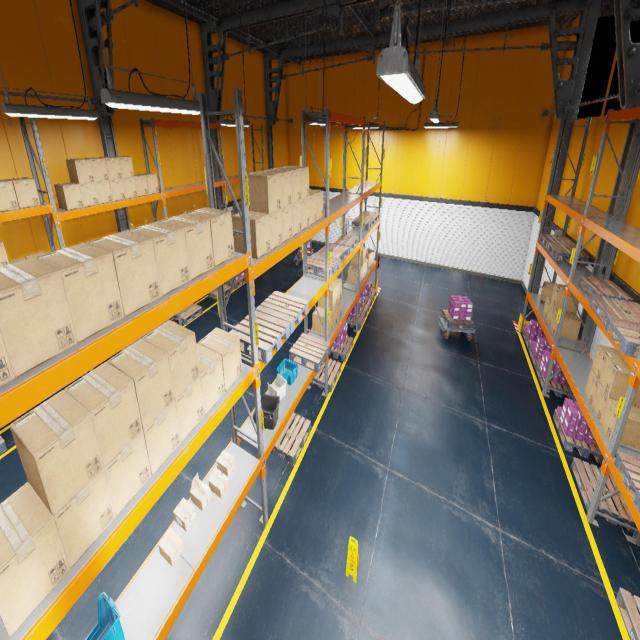box: (9, 390, 104, 516), (0, 482, 70, 637), (0, 257, 77, 377), (34, 243, 124, 342), (64, 362, 143, 468), (85, 231, 161, 317), (53, 468, 116, 568), (108, 338, 174, 429), (126, 222, 190, 296), (142, 320, 200, 399), (104, 431, 151, 516), (158, 214, 214, 280), (184, 207, 234, 266), (198, 327, 242, 391), (143, 400, 181, 474), (599, 356, 640, 407), (196, 343, 225, 414), (600, 398, 640, 449), (174, 376, 204, 442), (232, 210, 270, 258), (247, 171, 280, 214), (591, 344, 624, 382), (259, 169, 291, 208), (270, 167, 300, 204), (5, 177, 40, 208), (158, 528, 184, 566), (282, 165, 309, 200), (550, 310, 581, 340), (550, 283, 579, 313), (0, 330, 15, 386), (54, 182, 84, 210), (190, 472, 212, 510), (173, 497, 196, 531), (546, 302, 576, 327), (66, 158, 94, 184), (208, 468, 229, 498), (0, 180, 19, 212), (592, 383, 607, 423), (312, 306, 332, 336), (98, 156, 122, 180), (84, 158, 109, 181), (269, 209, 282, 250), (318, 283, 337, 311), (584, 370, 598, 407), (216, 450, 235, 476), (112, 156, 134, 178), (80, 182, 98, 207), (310, 189, 324, 220), (95, 180, 113, 204), (281, 205, 292, 242), (140, 173, 159, 194), (109, 178, 126, 201), (122, 177, 138, 199), (539, 281, 554, 304), (292, 200, 301, 236), (134, 174, 148, 196), (348, 264, 362, 285), (351, 247, 366, 266), (301, 197, 309, 230), (332, 278, 342, 303), (352, 262, 365, 281), (0, 240, 9, 266), (365, 248, 375, 268), (543, 296, 551, 320), (310, 193, 316, 225), (24, 252, 47, 258), (9, 257, 27, 264), (333, 304, 337, 329), (337, 298, 341, 322), (365, 258, 367, 276)
pallets: (571, 457, 636, 533), (228, 310, 290, 363), (553, 409, 603, 464), (256, 290, 308, 334), (271, 412, 310, 466), (589, 294, 640, 326), (614, 451, 640, 513), (289, 333, 330, 372), (604, 316, 640, 358), (578, 276, 634, 302), (535, 362, 573, 399), (616, 588, 640, 640), (310, 358, 341, 392), (547, 242, 590, 266), (303, 252, 340, 278), (442, 309, 473, 330), (316, 242, 348, 262), (328, 336, 353, 361), (174, 303, 202, 325), (539, 233, 576, 249), (119, 334, 147, 352), (147, 318, 177, 334), (334, 234, 357, 253), (208, 284, 232, 300), (346, 310, 366, 329), (528, 344, 542, 368), (522, 328, 537, 349), (352, 216, 374, 230), (226, 275, 246, 289), (359, 211, 379, 223), (362, 299, 372, 316), (367, 288, 376, 304), (297, 249, 313, 258), (0, 436, 7, 454), (232, 201, 241, 210)
